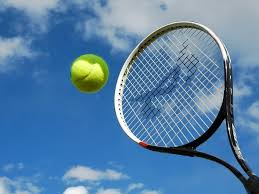tennis_ball: (69, 52, 110, 94)
